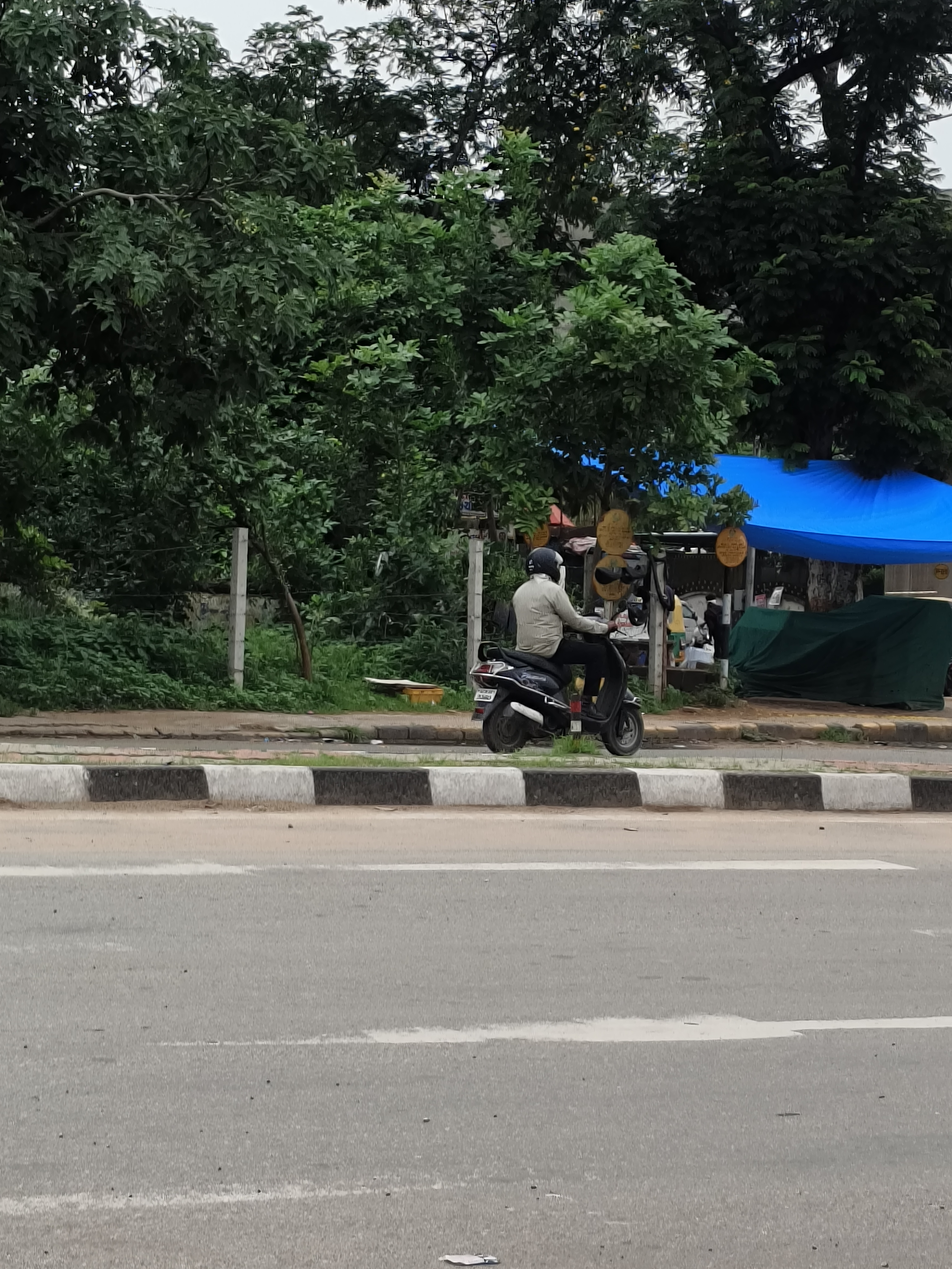BikeWithRider: (453, 523, 670, 784)
Helmet: (516, 540, 558, 586)
